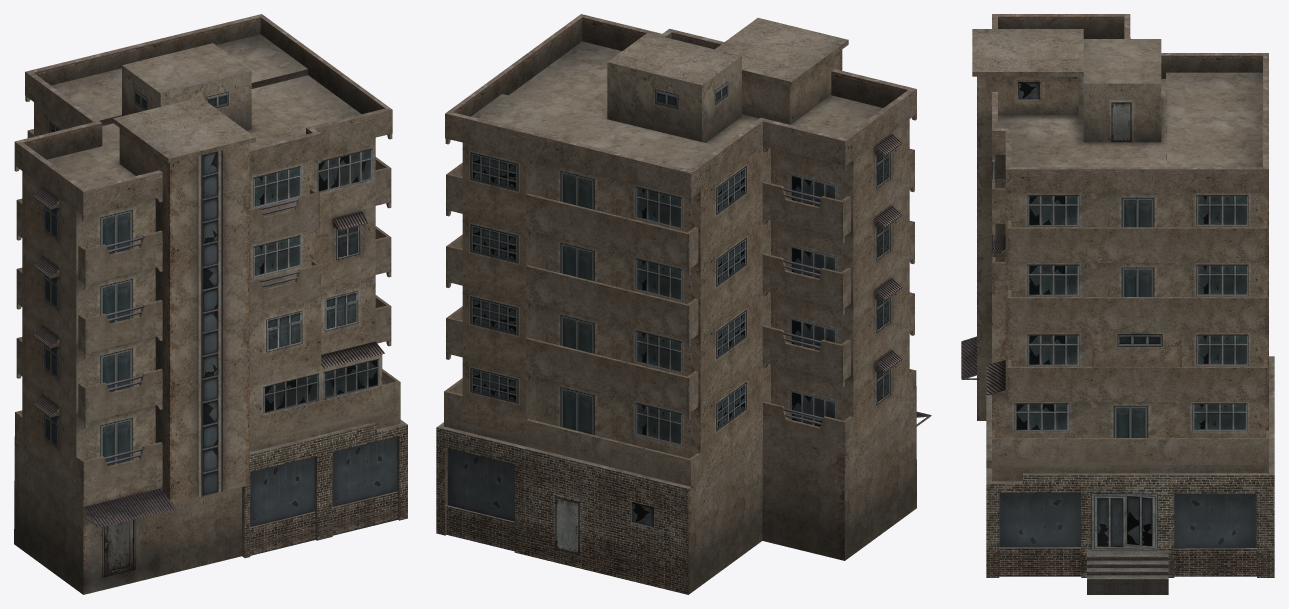
The model's file is buildings_10.FBX.
3 renders of one model, left to right at view 1: azimuth 30°, elevation 25°; view 2: azimuth 150°, elevation 25°; view 3: azimuth 270°, elevation 25°, orthographic. The views are drawn at different scales.
Parts seen in each view (by area): view 1: Object056; view 2: Object056; view 3: Object056.
Part boxes in pixels (bbox=[...]): Object056: bbox=[14, 14, 407, 594]; Object056: bbox=[436, 14, 931, 594]; Object056: bbox=[961, 14, 1274, 594].
Bounding box in the file's own units: 1654 × 1217 × 1893.
Materials: 1 (1 with a texture image).
